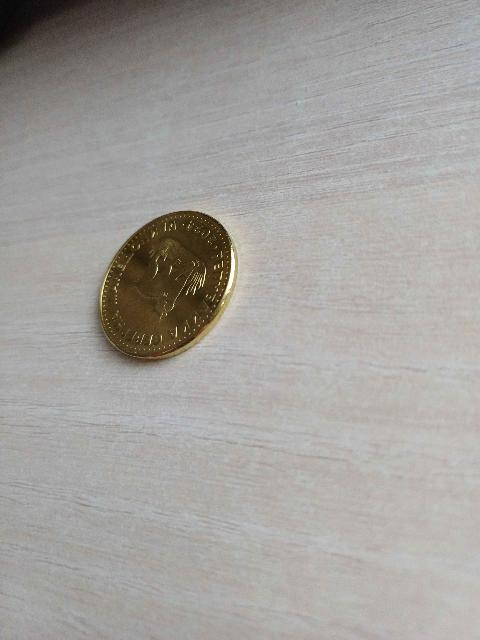coin: (92, 204, 235, 372)
